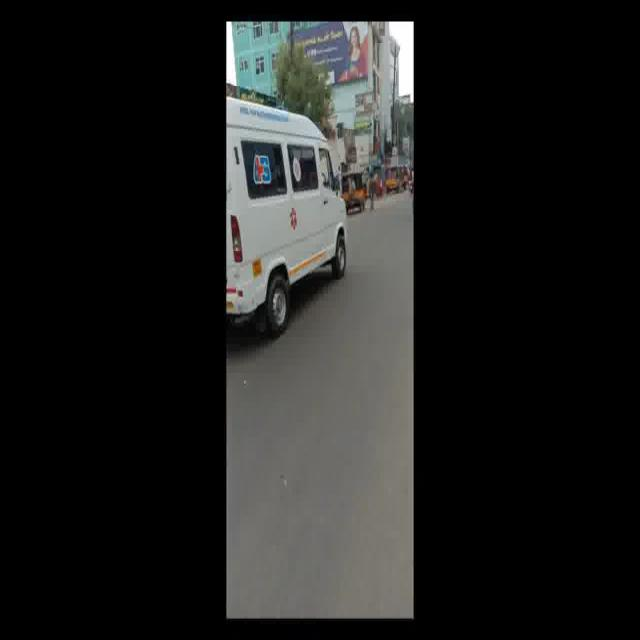ambulance: (225, 74, 348, 344)
